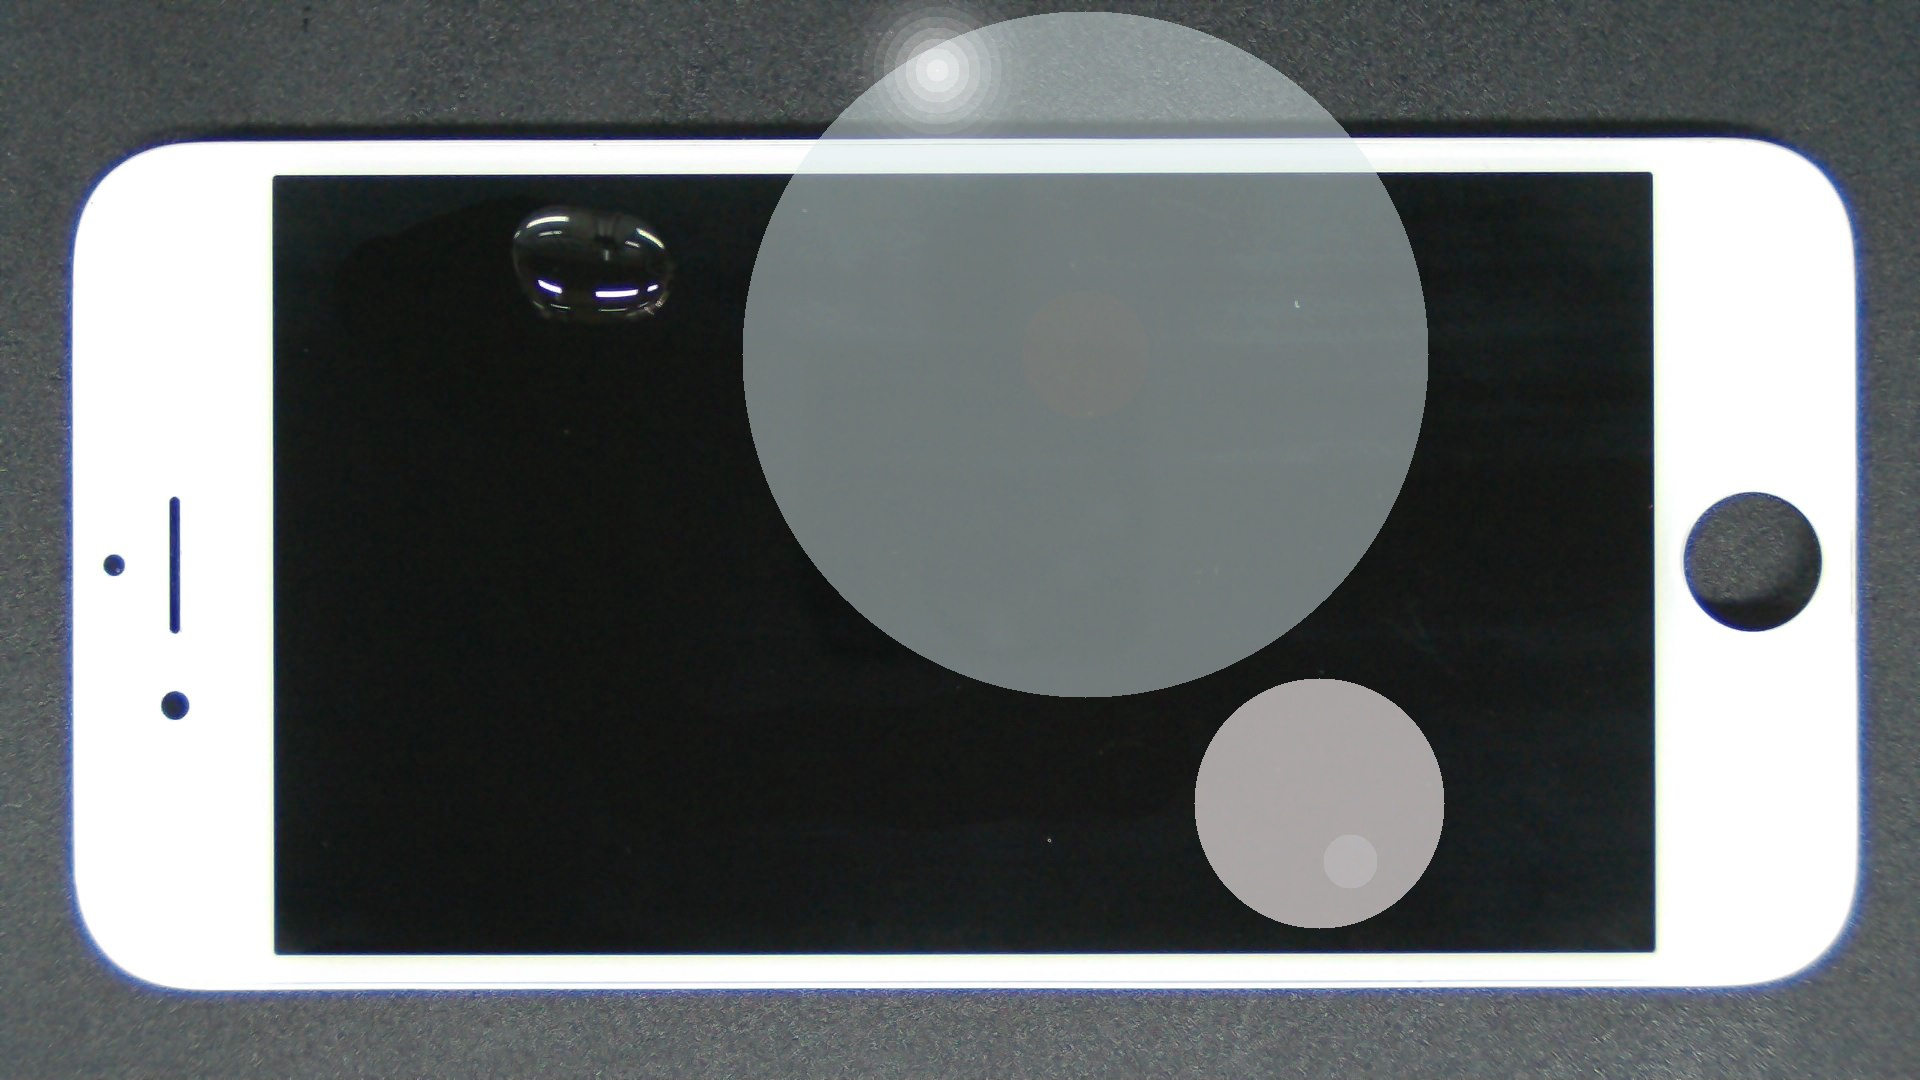oil: (277, 102, 829, 305)
